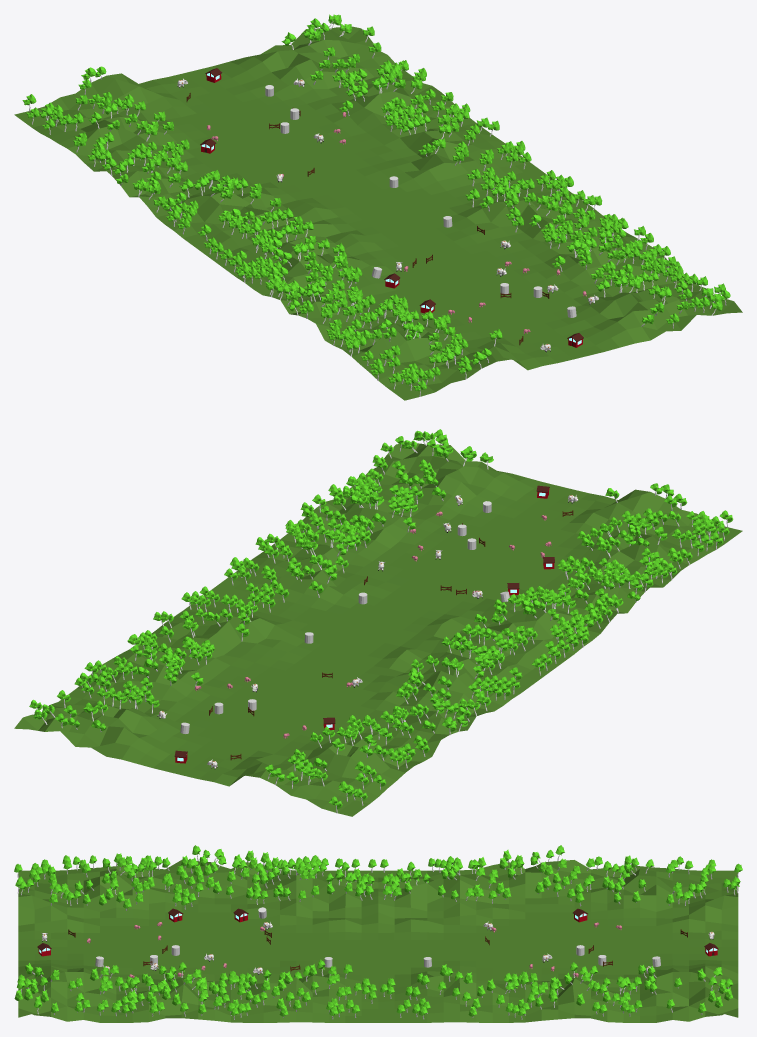
Rendered from ground_country.fbx.
3 renders of one model, top to bottom at view 1: azimuth 30°, elevation 25°; view 2: azimuth 150°, elevation 25°; view 3: azimuth 270°, elevation 25°, orthographic. The views are drawn at different scales.
Visible parts, largest first — view 1: tile 2, tile 1; view 2: tile 2, tile 1; view 3: tile 2, tile 1.
Boxes of the visible parts, box(x1,y1,x2,y2) form: tile 2: box(14, 26, 547, 257); tile 1: box(209, 177, 742, 400); tile 2: box(14, 592, 546, 816); tile 1: box(211, 443, 742, 673); tile 2: box(378, 860, 738, 1022); tile 1: box(18, 860, 378, 1022).
Size of the model in its own units: 6200 by 547 by 12150.
